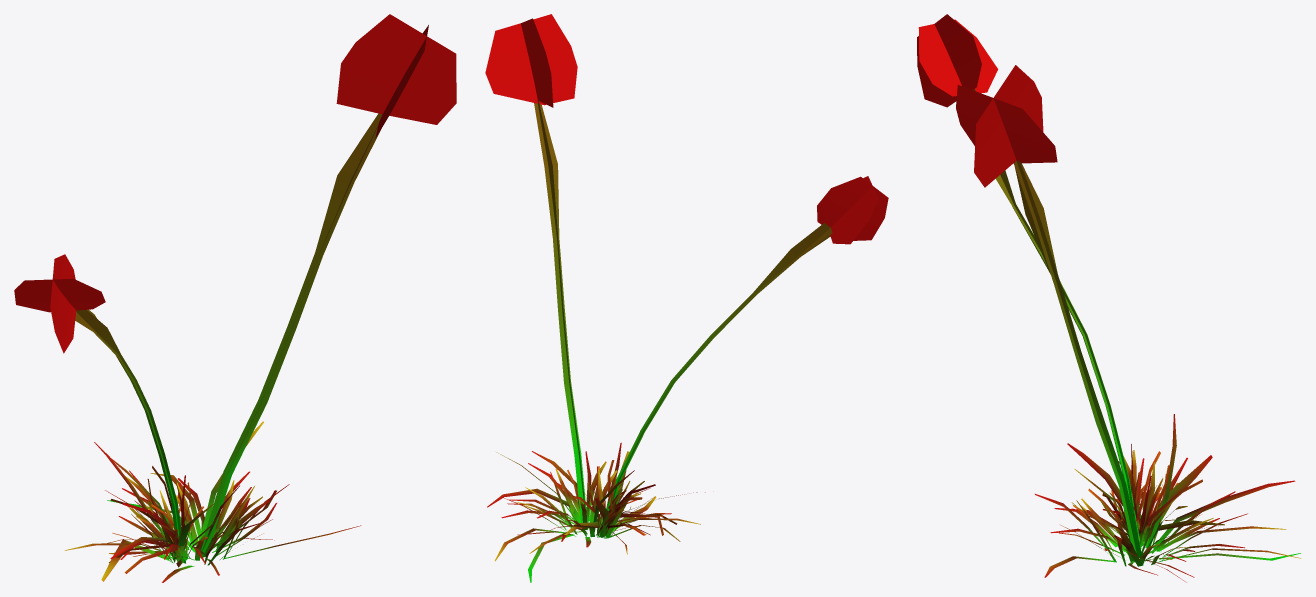
File: Var9_LOD2.fbx
3 renders of one model, left to right at view 1: azimuth 30°, elevation 25°; view 2: azimuth 150°, elevation 25°; view 3: azimuth 270°, elevation 25°, orthographic. The views are drawn at different scales.
Visible parts, largest first — view 1: _t6h8_Var9_LOD2; view 2: _t6h8_Var9_LOD2; view 3: _t6h8_Var9_LOD2.
Part boxes in pixels (bbox=[...]): _t6h8_Var9_LOD2: bbox=[14, 14, 456, 582]; _t6h8_Var9_LOD2: bbox=[485, 14, 888, 582]; _t6h8_Var9_LOD2: bbox=[917, 14, 1301, 582].
Bounding box in the file's own units: 11.48 × 13.86 × 8.64.
